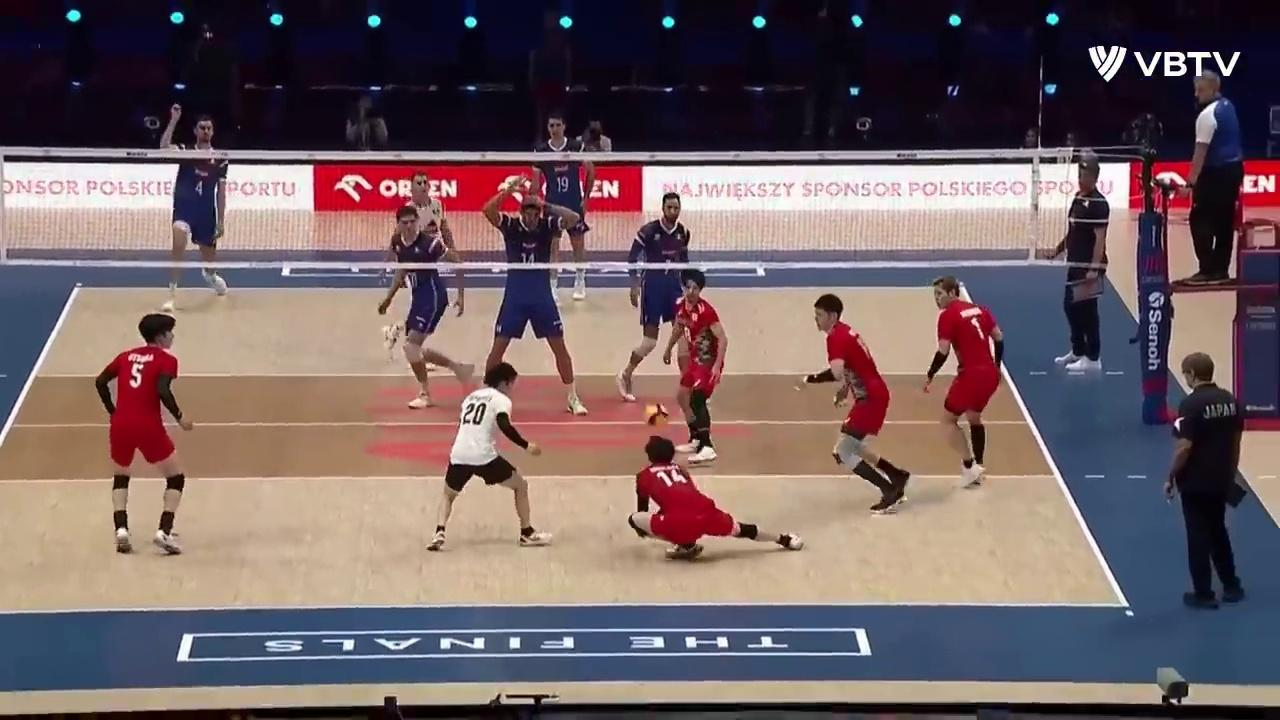ball: (643, 404, 668, 429)
